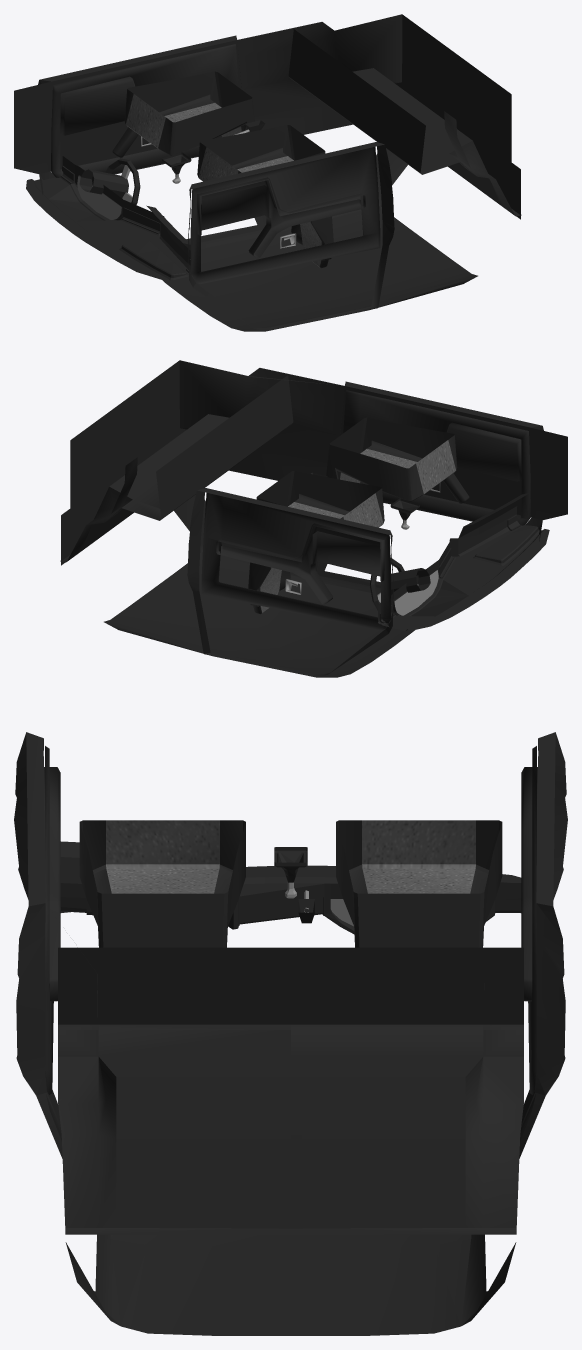
The model's file is M3_interior.obj.
The picture shows the model from 3 angles, top to bottom: view 1: azimuth 30°, elevation 25°; view 2: azimuth 150°, elevation 25°; view 3: azimuth 270°, elevation 25°; orthographic projection. The views are drawn at different scales.
Bounding box in the file's own units: 2.59 × 1.07 × 1.58.
1 material, 1 textured.
